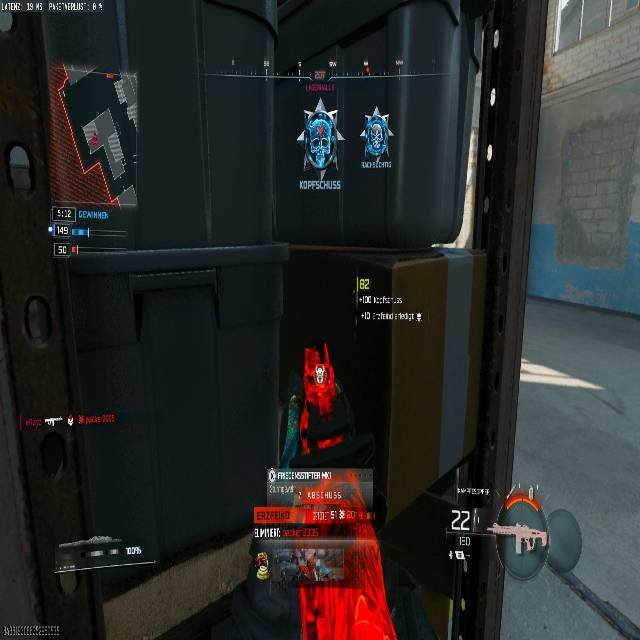player: (297, 96, 344, 184)
